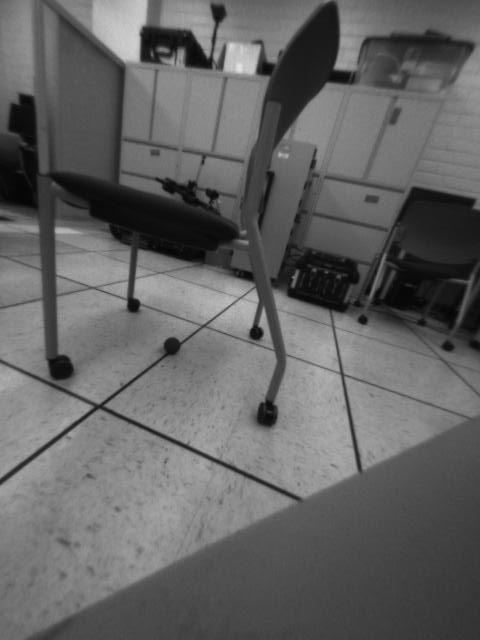dogtoy: (156, 332, 188, 361)
